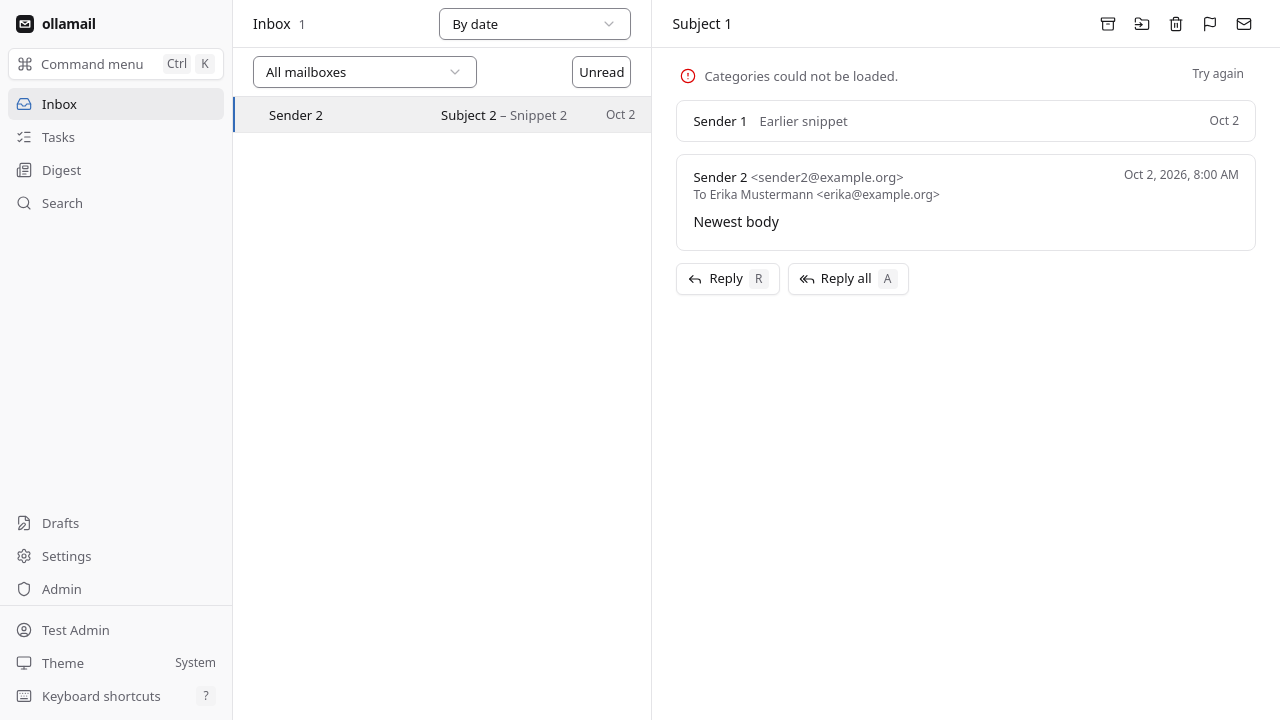
Test case: inbox › loads the body of an older message when it is expanded
Expected: the heading "Inbox" is shown, [253,14,291,34]
Expected: the text "Newest body" is shown, [693,212,779,231]
Click the button "Sender 1 Earlier snippet Oct 2" at (720, 121), box [676,100,1256,142]
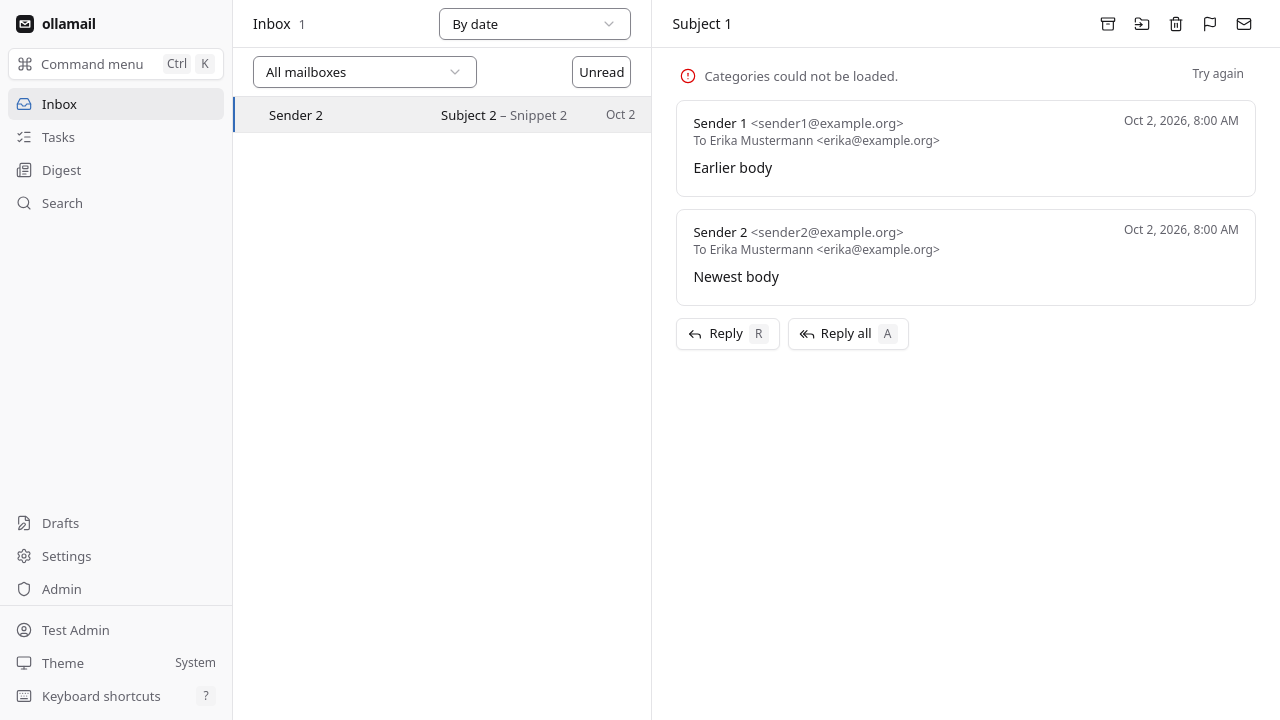
Result: the text "Earlier body" is shown at [693,158,772,177]
